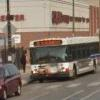Bus: (27, 33, 97, 81)
